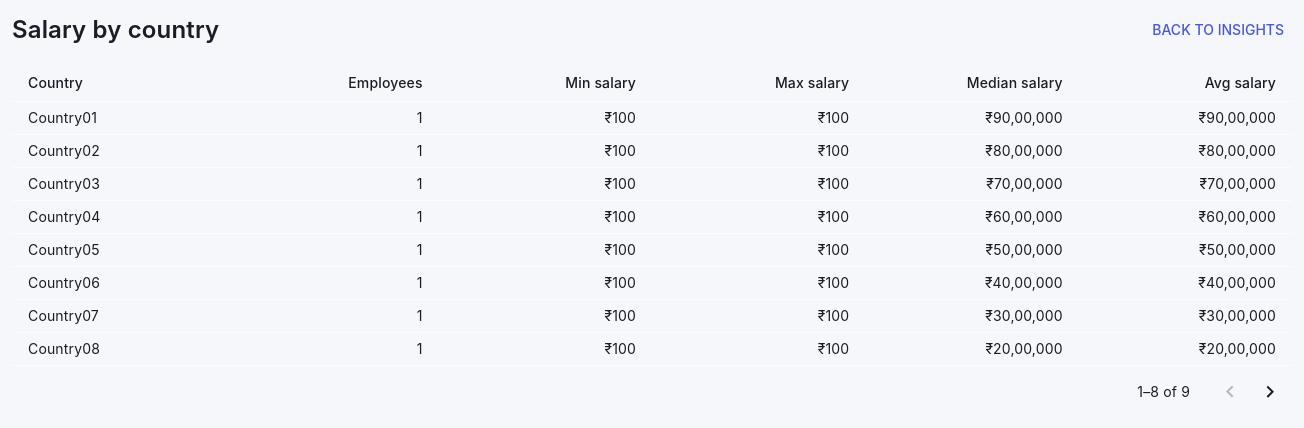
Test case: InsightsCountriesPage › renders client-paginated salary by country table
Check: the cell "Country01" is shown, box [12,101,225,134]
Check: the cell "Country02" is shown, box [12,134,225,167]
Click the button named "go to next page" at (1270, 392), box [1250,372,1290,412]
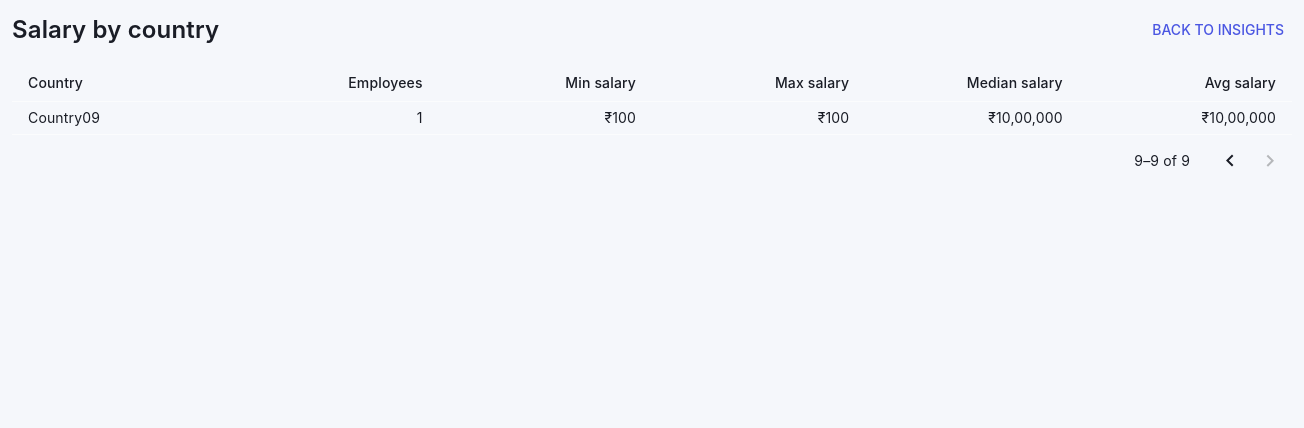
Check: the cell "Country09" is shown, box [12,101,225,134]
Check: the cell "Country01" is gone
